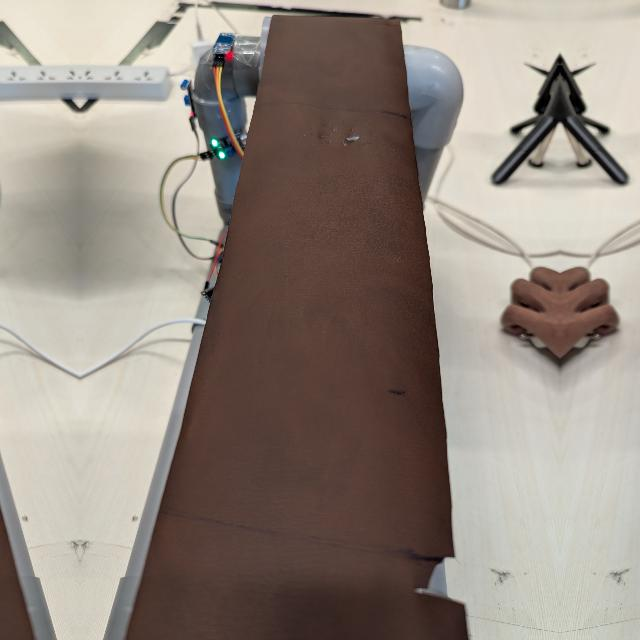belt_crack: (310, 114, 400, 150)
edge_damage: (411, 519, 488, 622), (632, 519, 640, 622)
